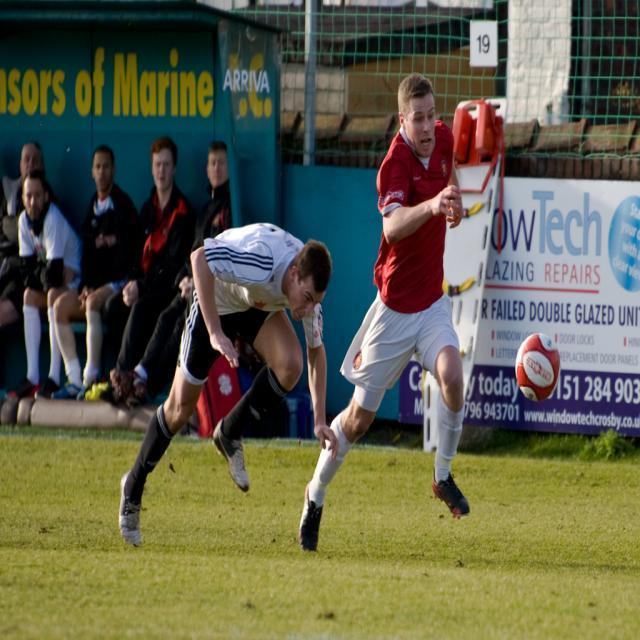ball: (515, 331, 563, 398)
